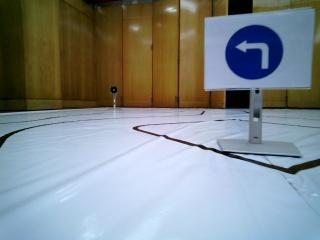left: (211, 20, 295, 80)
